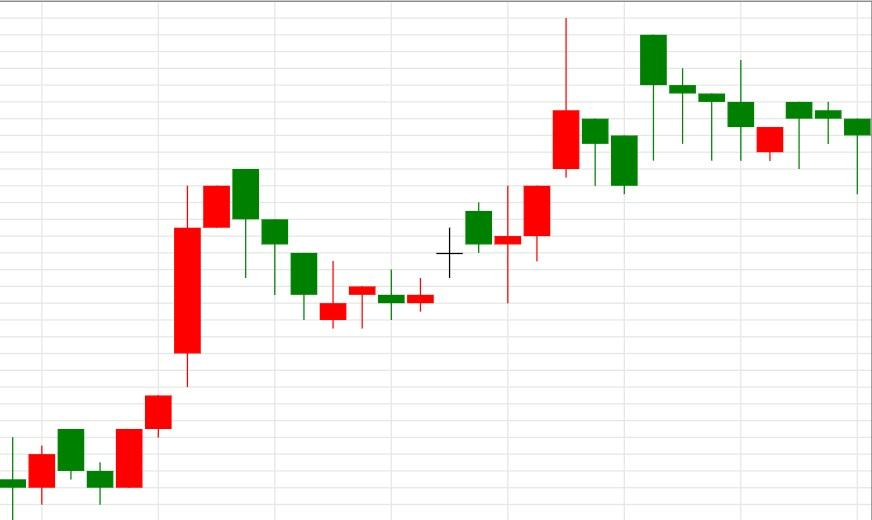three_black_crows_fall: (85, 169, 318, 505)
